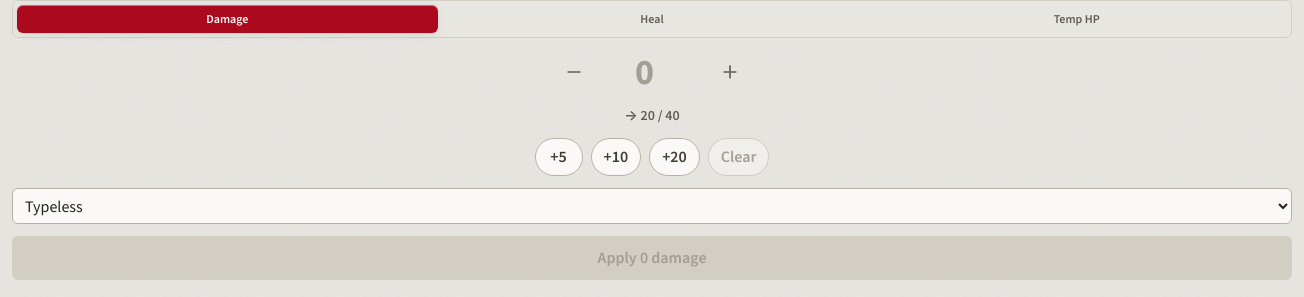
it: HpActionControl projected-result line (#796) › damage projects the resulting current / max without an amount prefix
Click the button named "Add 5": click(558, 157) [534,138,582,176]
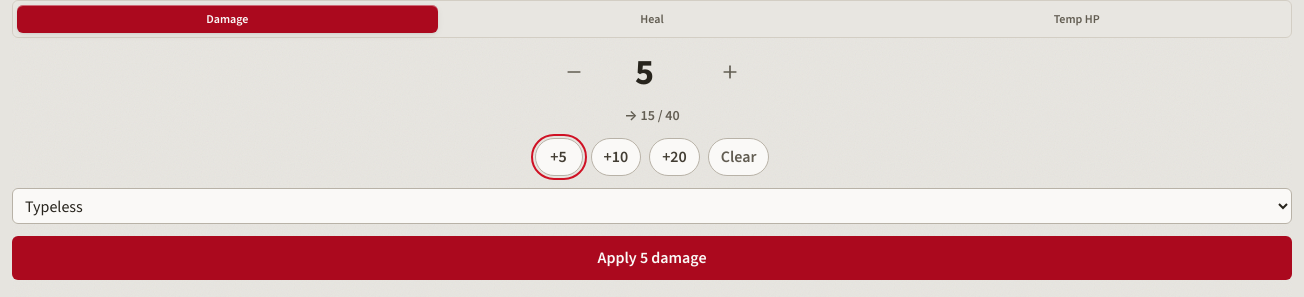
Check: the text "→ 15 / 40" is shown, box [624,106,680,125]
